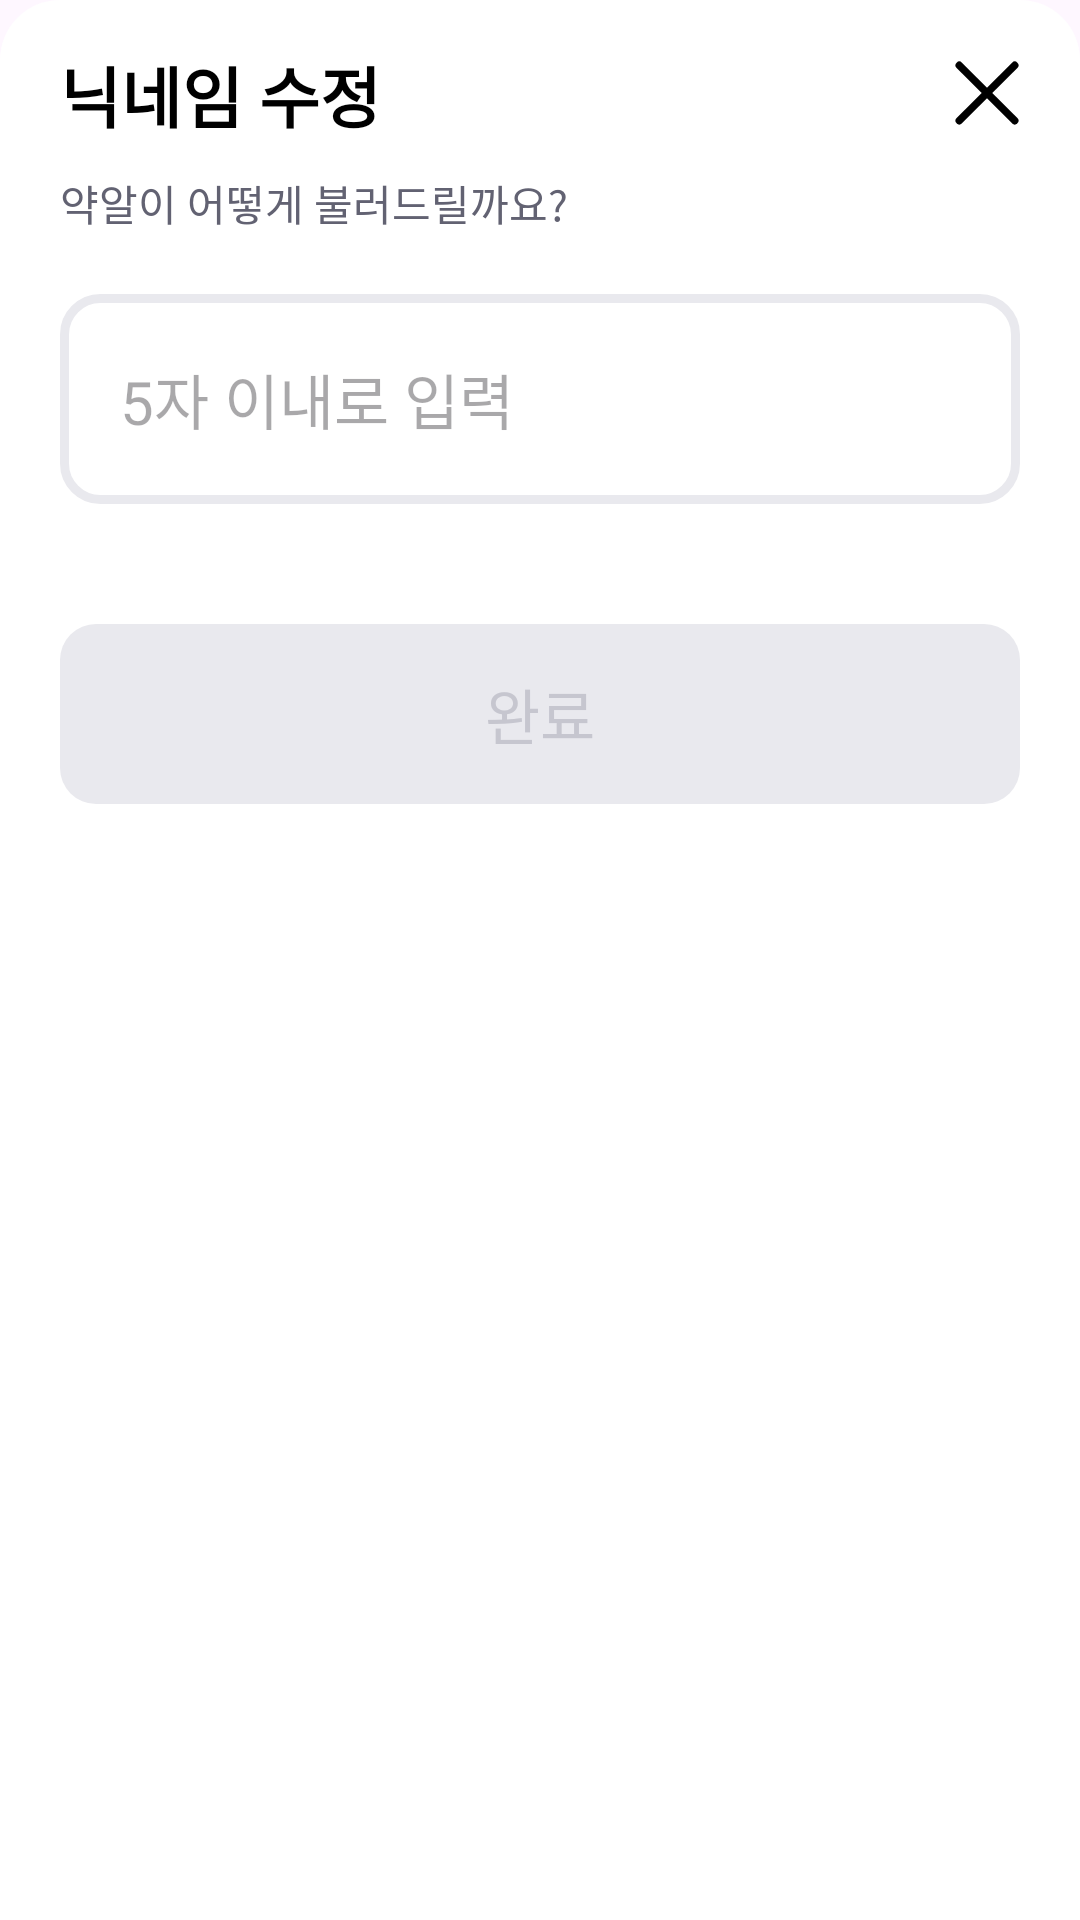

Where icons sit on this 1080px×1920px app screen, as (x1, y1, x2, y2):
custom close: (955, 61, 1019, 125)
